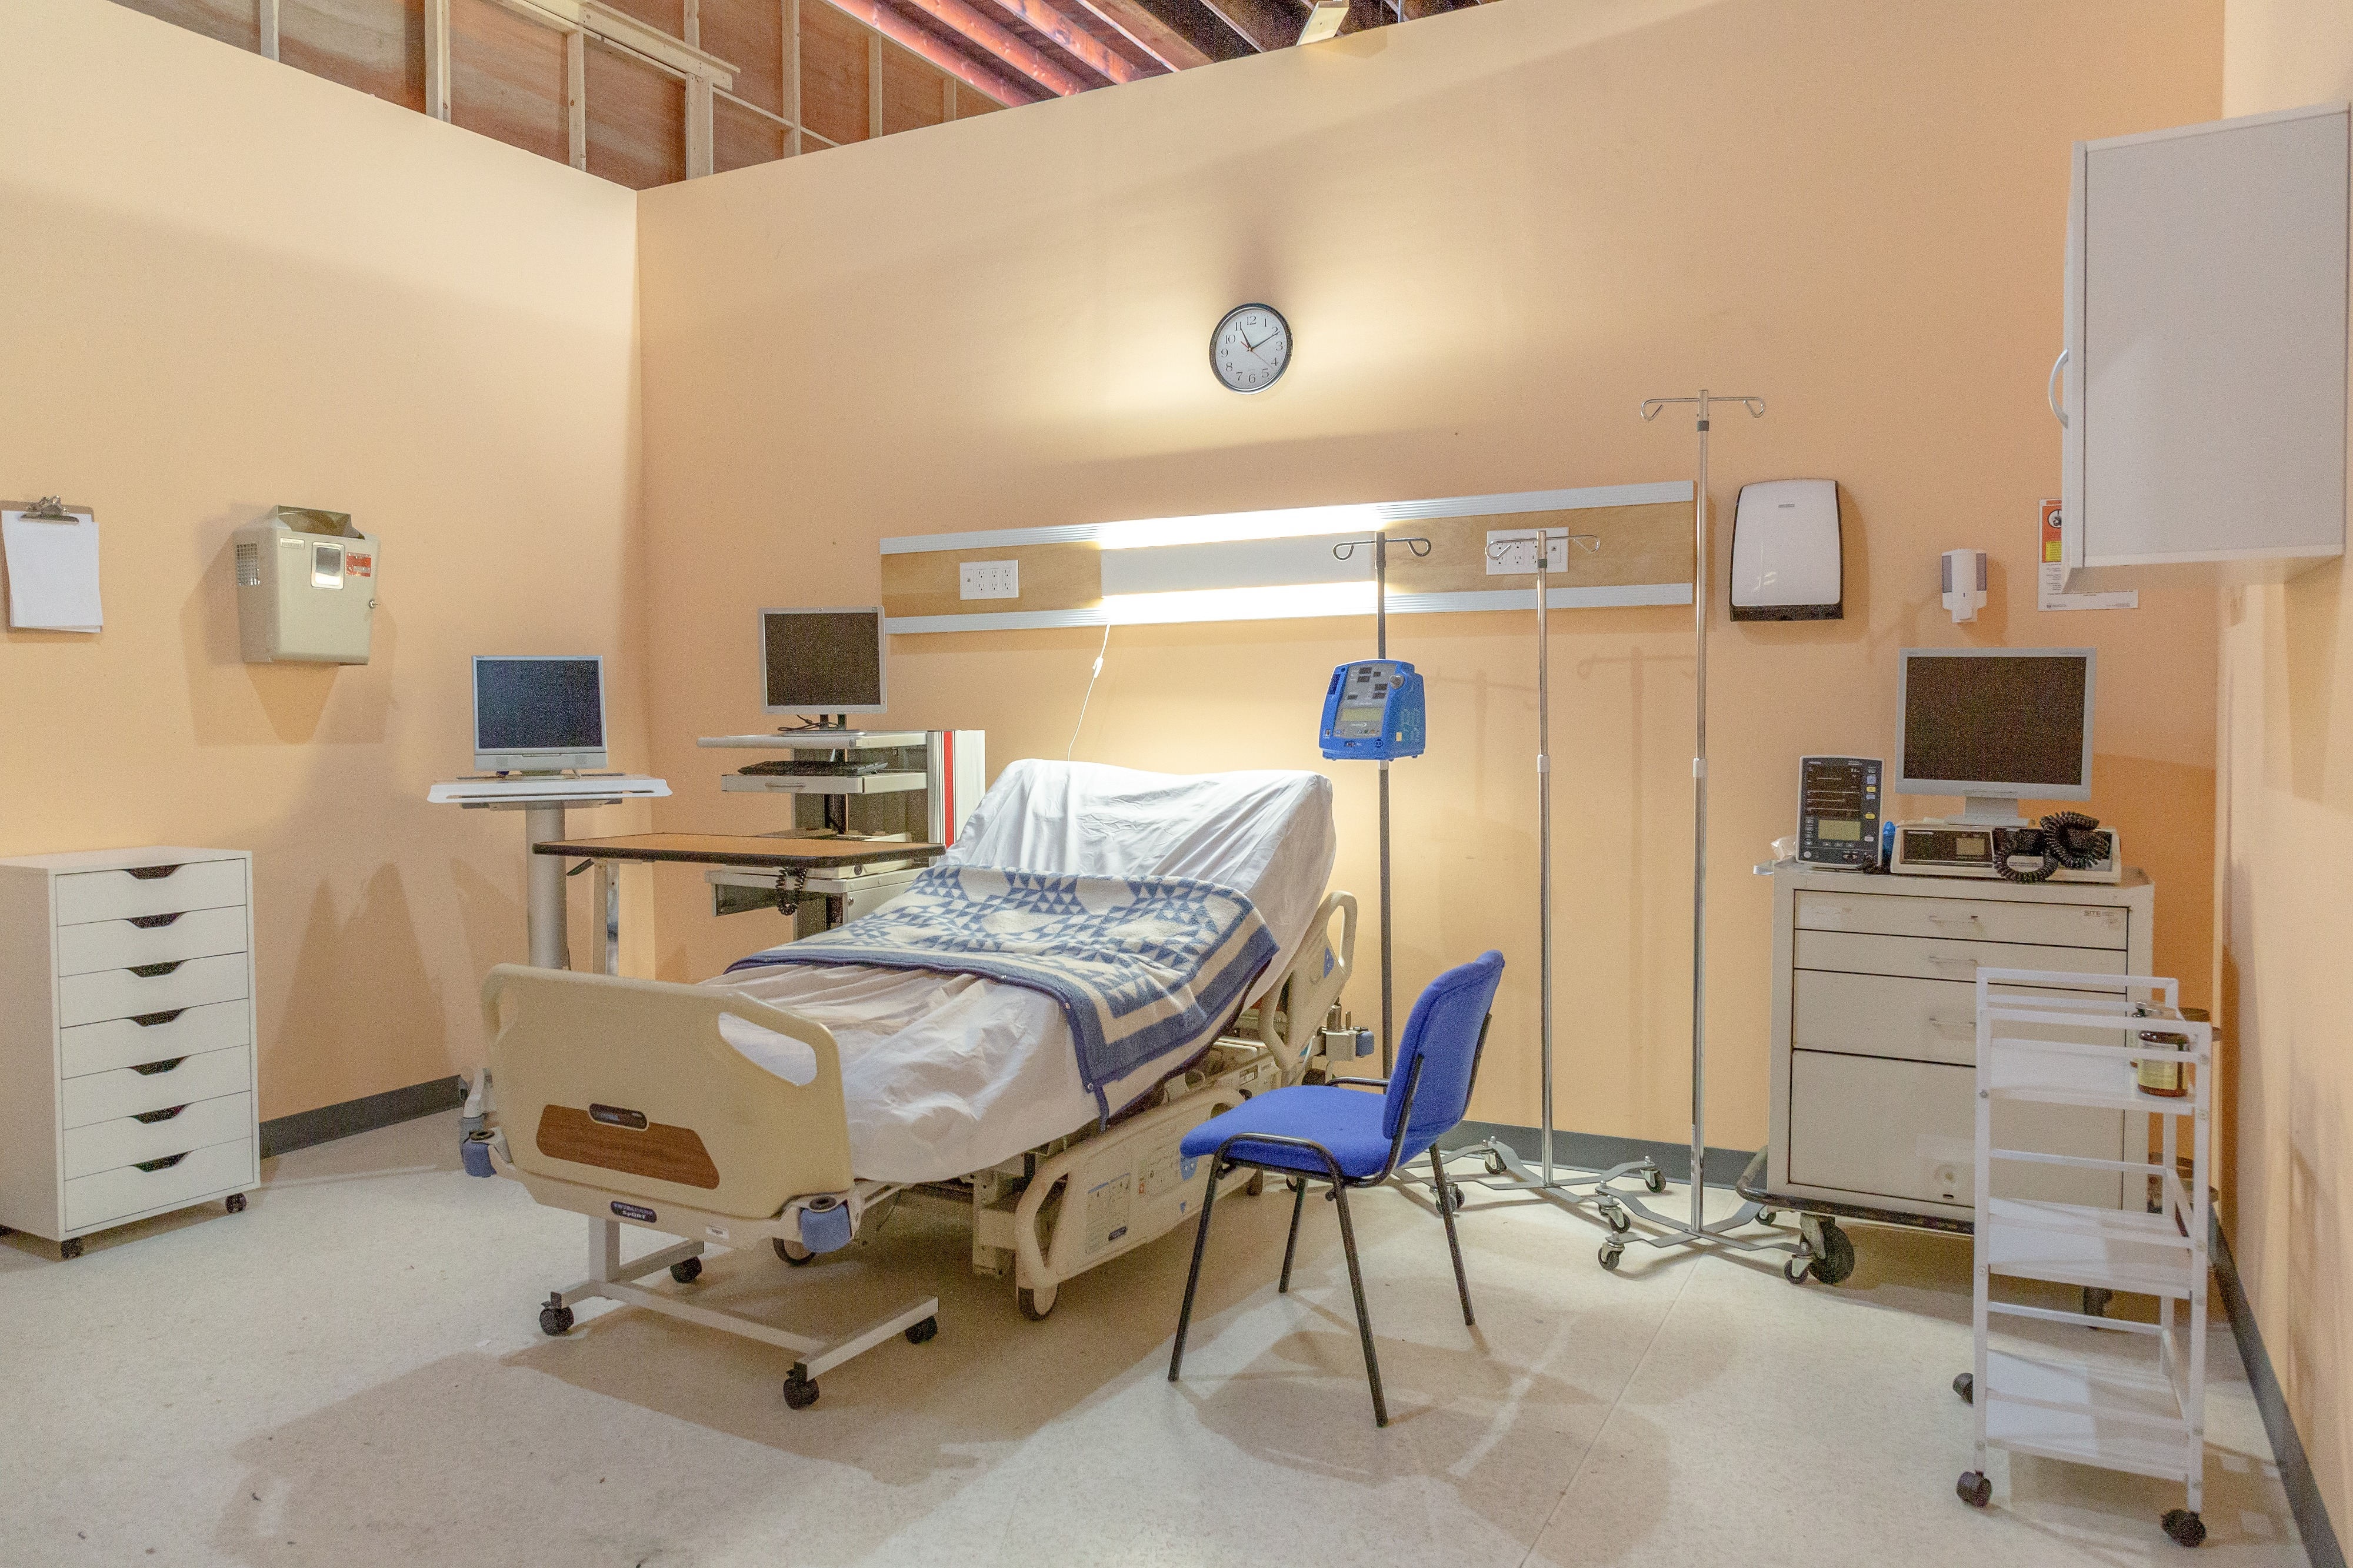bedrail: (1009, 1085, 1263, 1290), (1261, 889, 1356, 1083)
bedside_monitor: (472, 654, 611, 775)
cabinet: (2026, 110, 2350, 586)
chair: (1162, 945, 1505, 1424)
computer: (1891, 644, 2098, 803), (754, 604, 890, 719)
dispenser: (1725, 474, 1849, 623), (1937, 549, 1991, 630)
electrosurgical_unit: (1891, 810, 2127, 880)
foot_board: (464, 959, 854, 1248)
handle: (2045, 343, 2073, 429), (1924, 945, 1984, 971), (1923, 1155, 1982, 1179), (1926, 1001, 1986, 1025), (1924, 905, 1984, 929)
hospital_bed: (460, 752, 1375, 1412)
infusion_pump: (1319, 663, 1428, 761)
iv_pole: (1634, 390, 1767, 1234), (1482, 535, 1602, 1179), (1328, 534, 1436, 1094)
keyboard: (735, 759, 887, 775)
medical_drawer: (1769, 875, 2161, 1295), (2, 849, 269, 1265)
medical_waste_container: (238, 492, 369, 661)
overbed_table: (532, 826, 946, 978)
utility_cart: (1951, 959, 2211, 1545)
